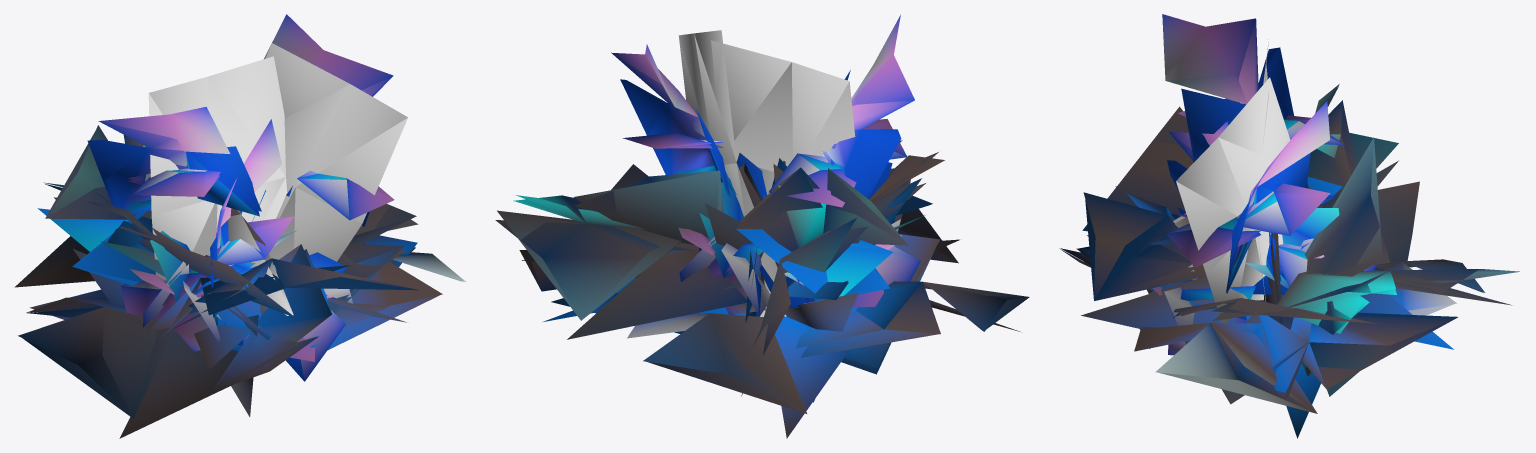
The model's file is shrub_b.dae.
3 views of the same model, side by side, from view 1: azimuth 30°, elevation 25°; view 2: azimuth 150°, elevation 25°; view 3: azimuth 270°, elevation 25° (orthographic). The views are drawn at different scales.
Parts seen in each view (by area): view 1: shrub_b_a450, shrub_b_a150; view 2: shrub_b_a450, shrub_b_a150; view 3: shrub_b_a450, shrub_b_a150.
Part boxes in pixels (left/top/right/bottom): shrub_b_a450: left=14, top=14, right=465, bottom=438; shrub_b_a150: left=15, top=76, right=462, bottom=418; shrub_b_a450: left=495, top=14, right=1028, bottom=438; shrub_b_a150: left=497, top=44, right=1029, bottom=428; shrub_b_a450: left=1059, top=14, right=1519, bottom=438; shrub_b_a150: left=1060, top=19, right=1519, bottom=424.
Size of the model in its own units: 7.53 by 7.2 by 6.06.
